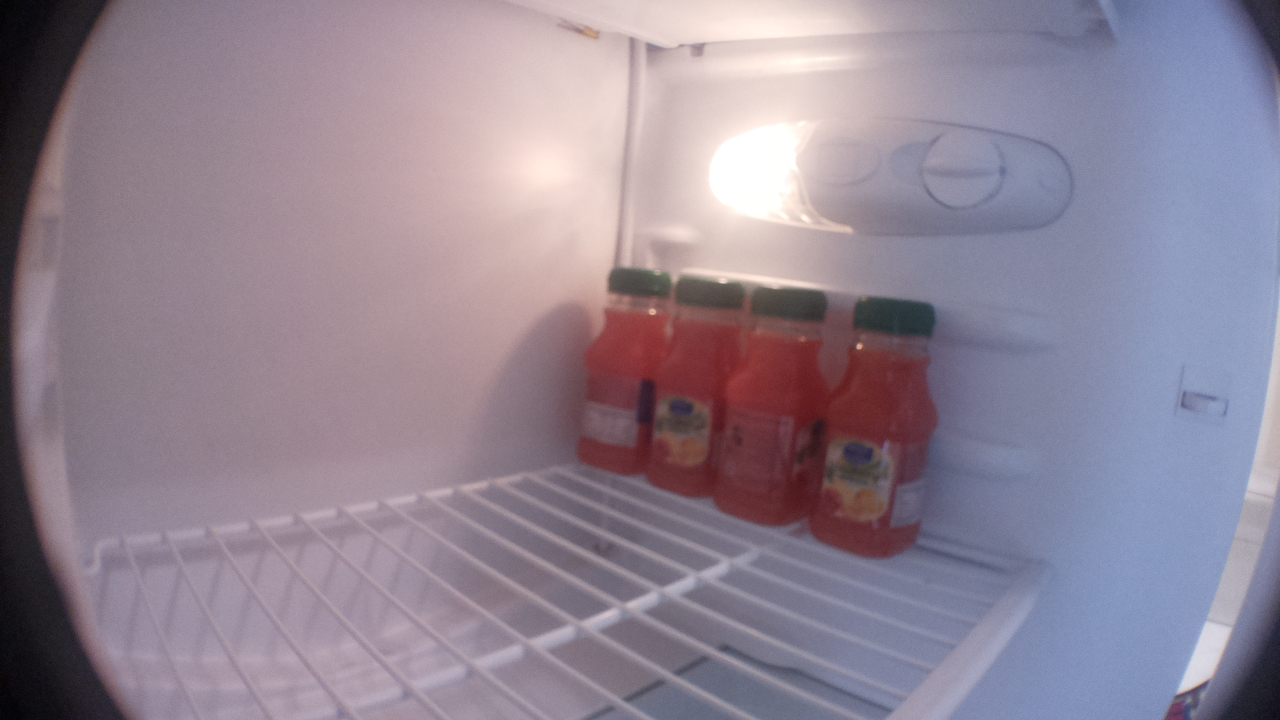juice: (813, 293, 947, 566), (720, 277, 820, 532), (577, 261, 657, 481), (646, 263, 717, 508)
